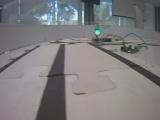tl_green: (94, 16, 101, 36)
